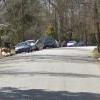Car: (10, 34, 42, 55)
